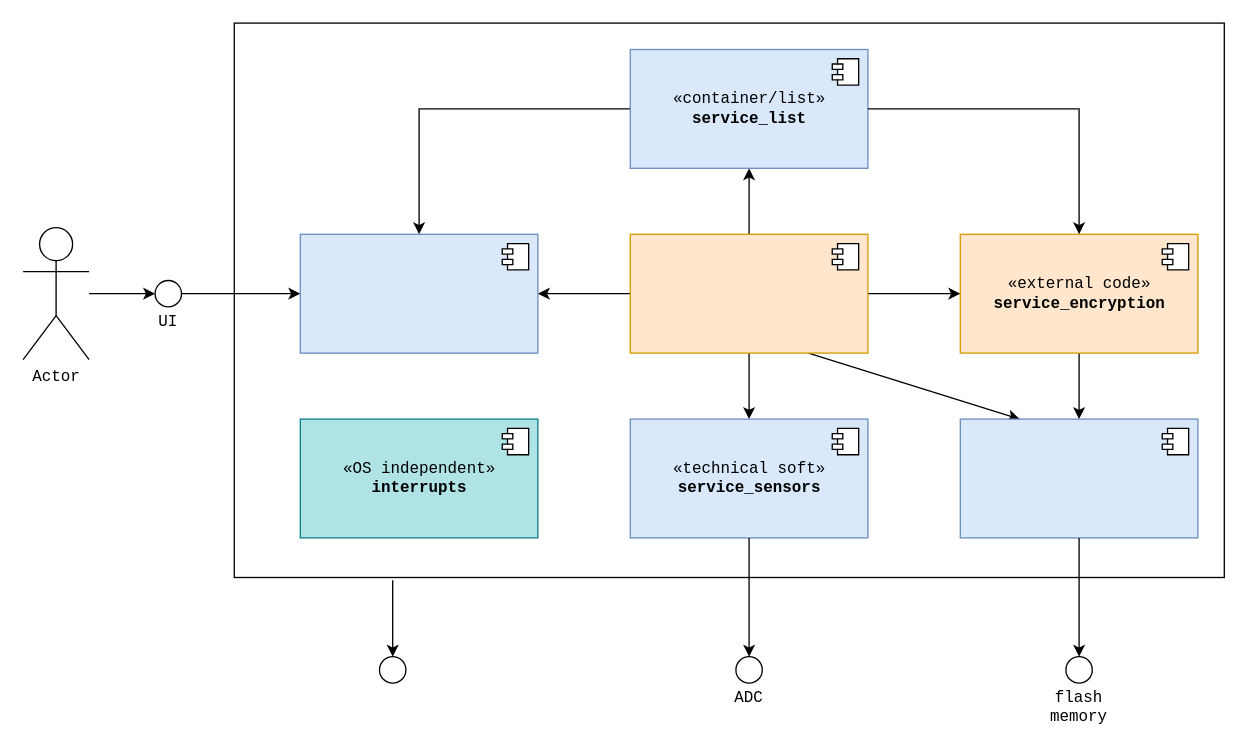
This 1247x750 diagram has some shape labels left out. Here are the shapes that lost their labels. From the top down, the centre of each, then its label:
At point 418,293: "«technical soft» service_IO".
At point 748,293: "«external code» RTOS_scheduler".
At point 1078,478: "«technical soft» service_database".
At point 392,669: "ssh".
